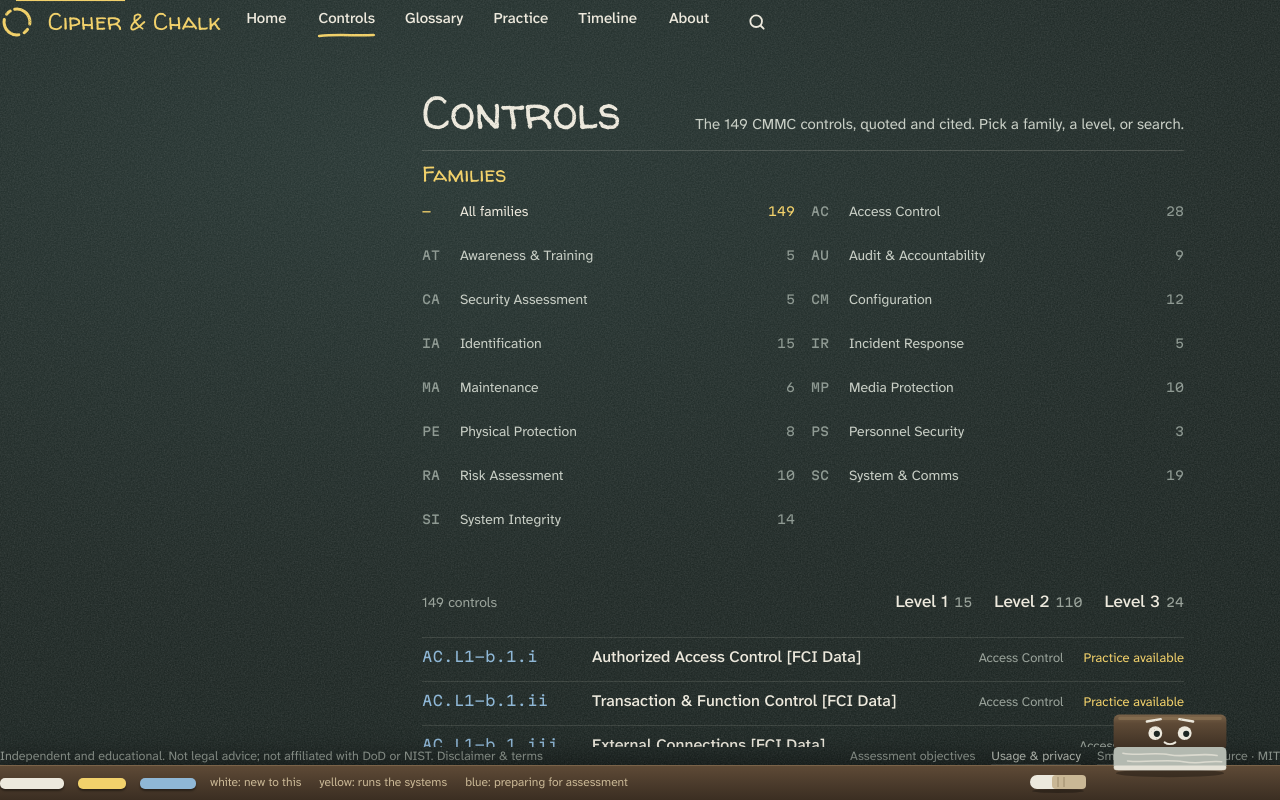
Test: the Controls page › filters by family in place from real links, and marks the family in force
Expected: the heading "Controls" is shown, 422,90 -> 621,136
Expected: the message named "Control search results" reads "149 controls", 422,591 -> 497,614
Click the link "MP Media Protection 10". click: (901, 387)
box: 811,378 -> 1184,396
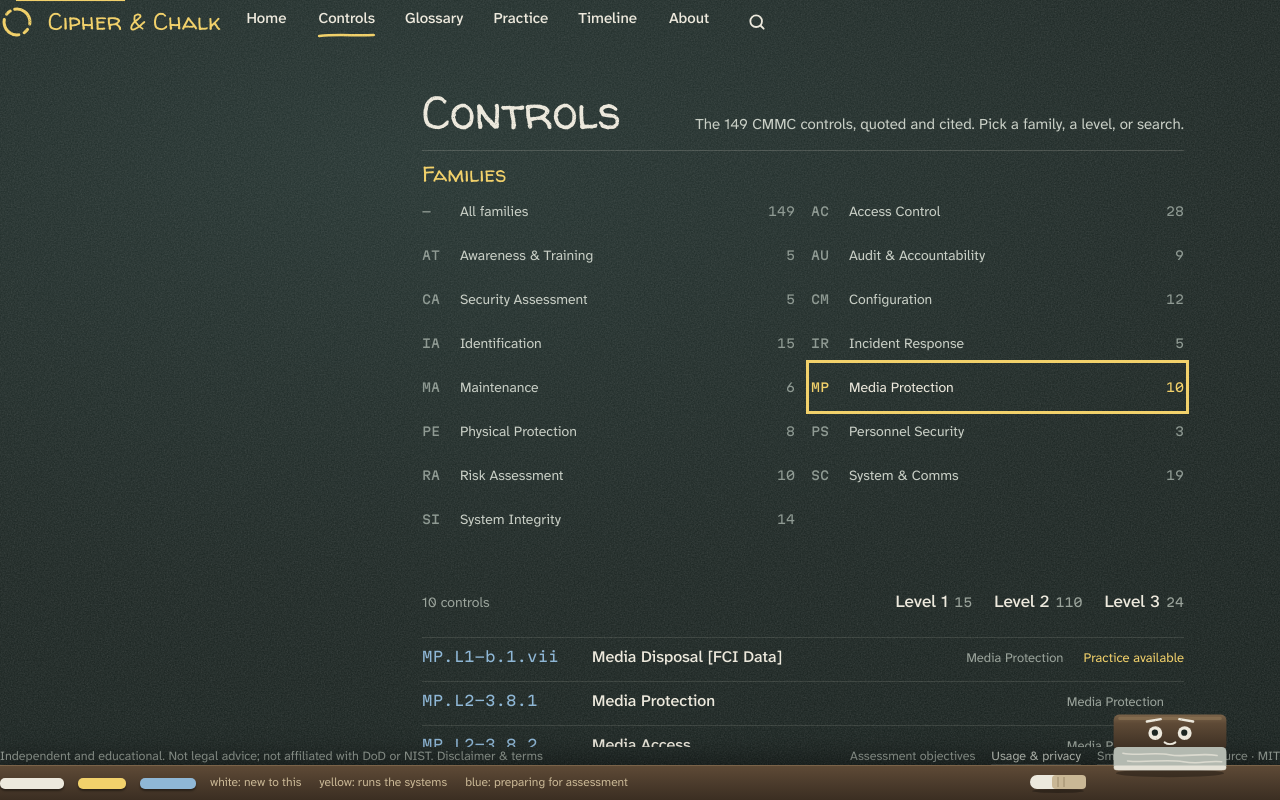
Now the message named "Control search results" reads "10 controls", box 422,591 -> 490,614
Click the link "— All families 149". click: (494, 211)
box: 422,202 -> 795,220
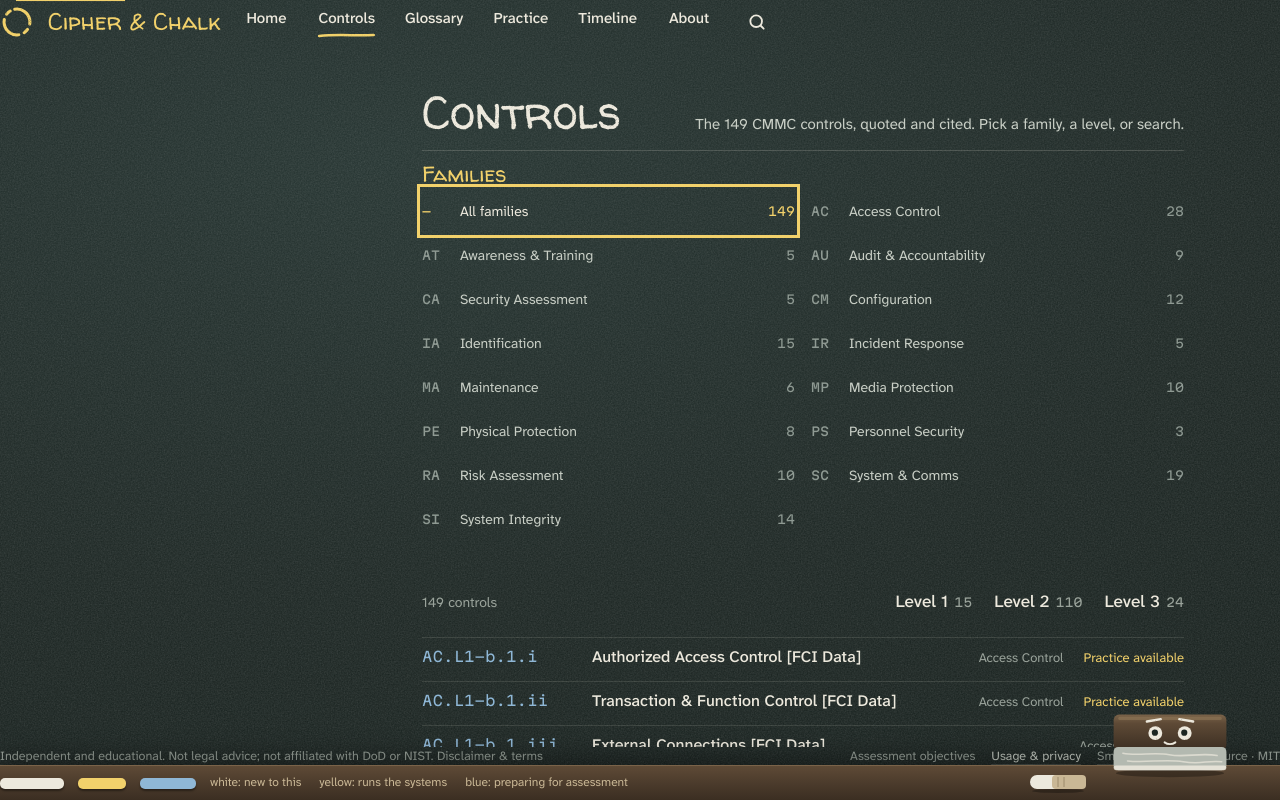
Now the message named "Control search results" reads "149 controls", box 422,591 -> 497,614
